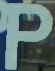Parking: (3, 2, 52, 68)
